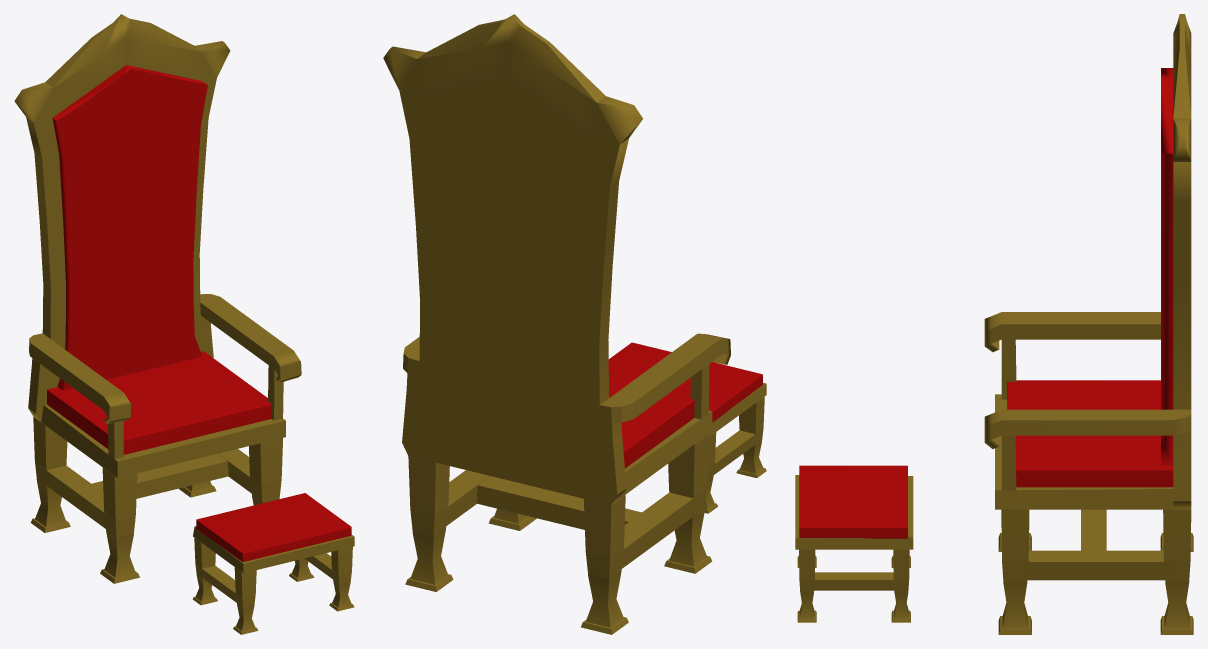
The model's file is Throne.fbx.
The picture shows the model from 3 angles, left to right: view 1: azimuth 30°, elevation 25°; view 2: azimuth 150°, elevation 25°; view 3: azimuth 270°, elevation 25°; orthographic projection. The views are drawn at different scales.
Parts seen in each view (by area): view 1: pCube240; view 2: pCube240; view 3: pCube240.
Part boxes in pixels (x1=…): pCube240: x1=14, y1=14, x2=354, y2=634; pCube240: x1=383, y1=14, x2=766, y2=634; pCube240: x1=795, y1=14, x2=1193, y2=634.
Size of the model in its own units: 2.82 by 6.17 by 3.89.
